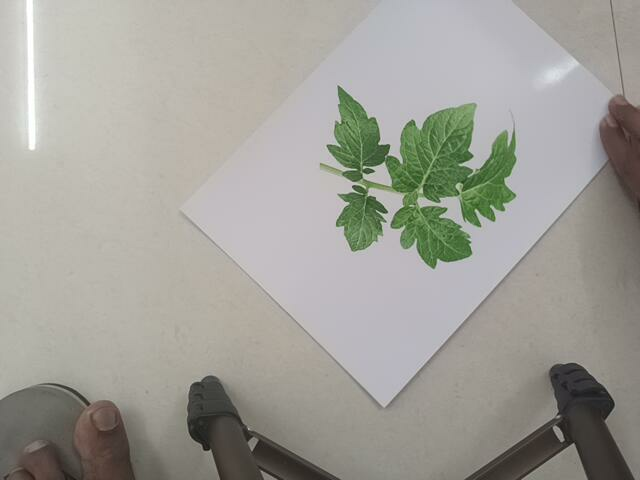Tomamto_Leaf_Healthy: (309, 82, 521, 289)
